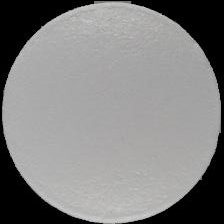0615-7843: (0, 0, 224, 224)
